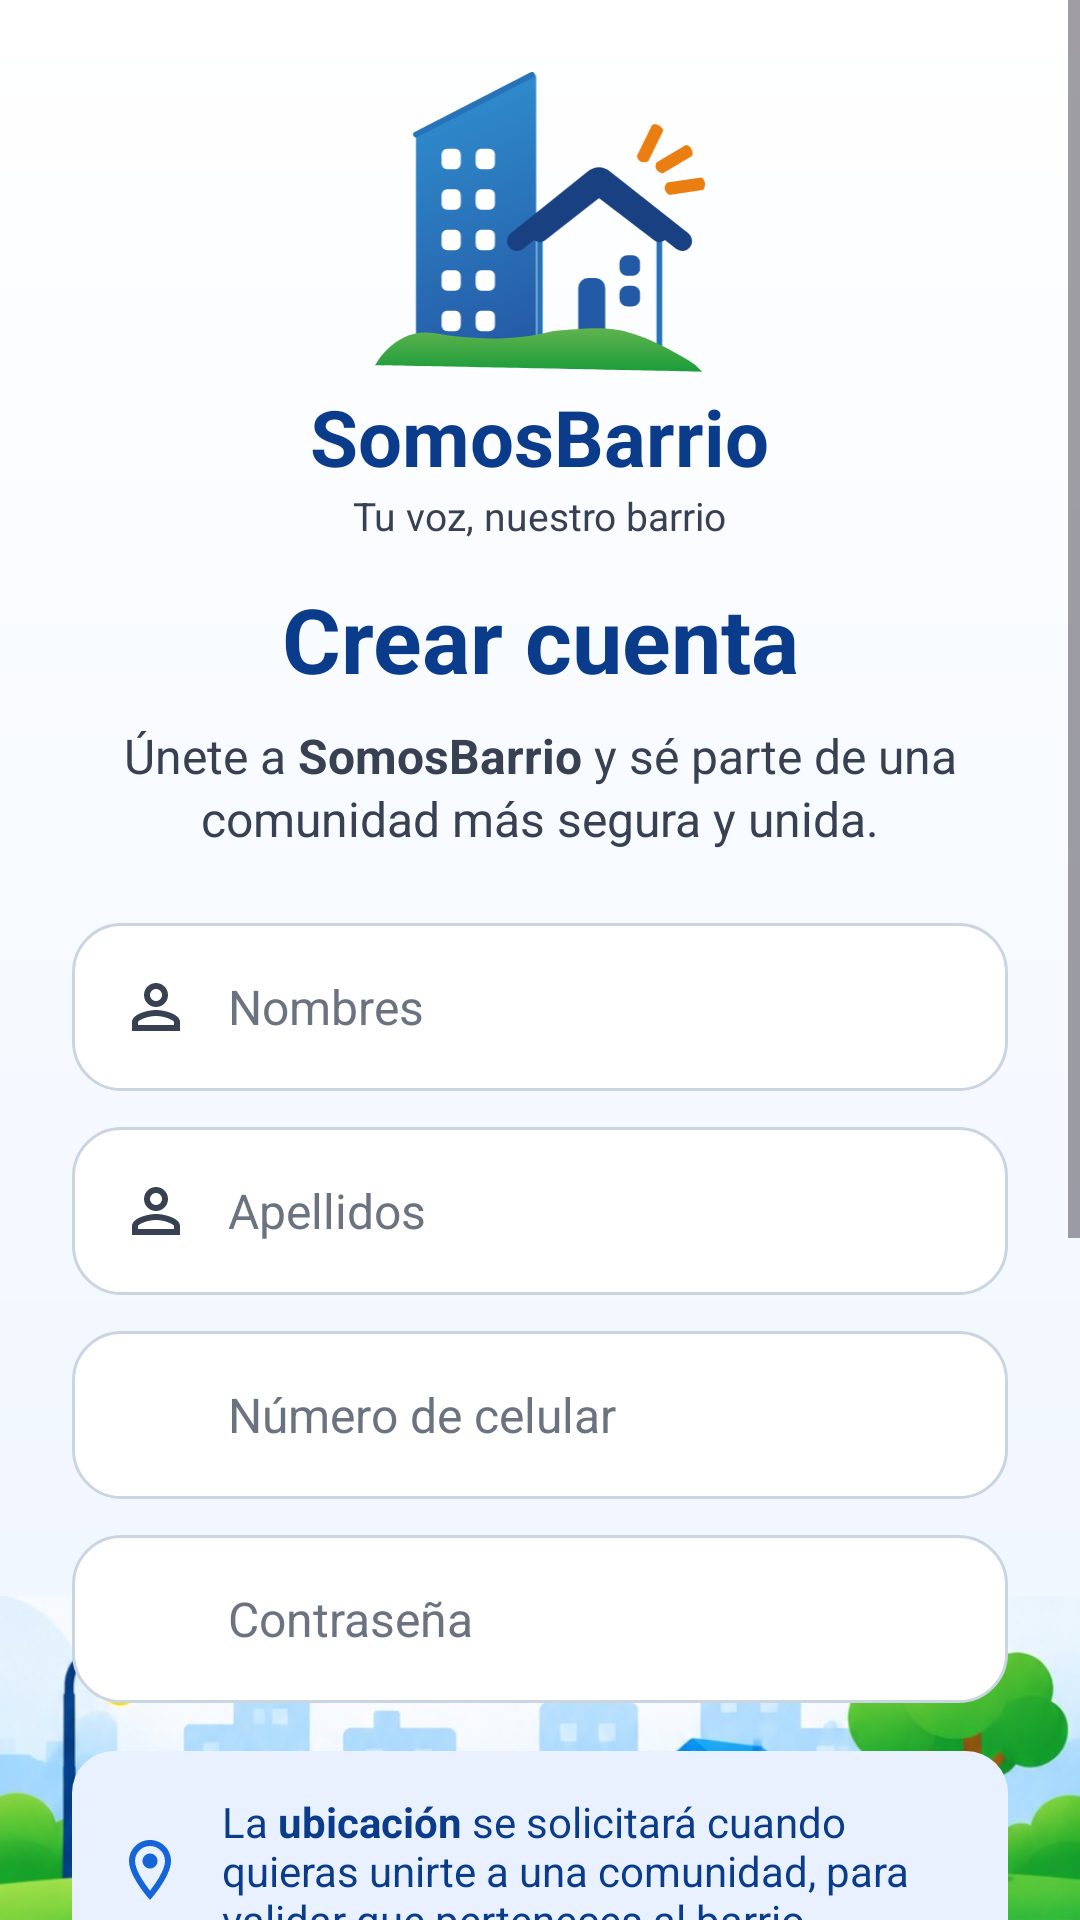

Icons on this 1080w x 1920h Android screen, each with the point to tap as (x=x, y=y):
person: (x=156, y=1007), (x=156, y=1211)
